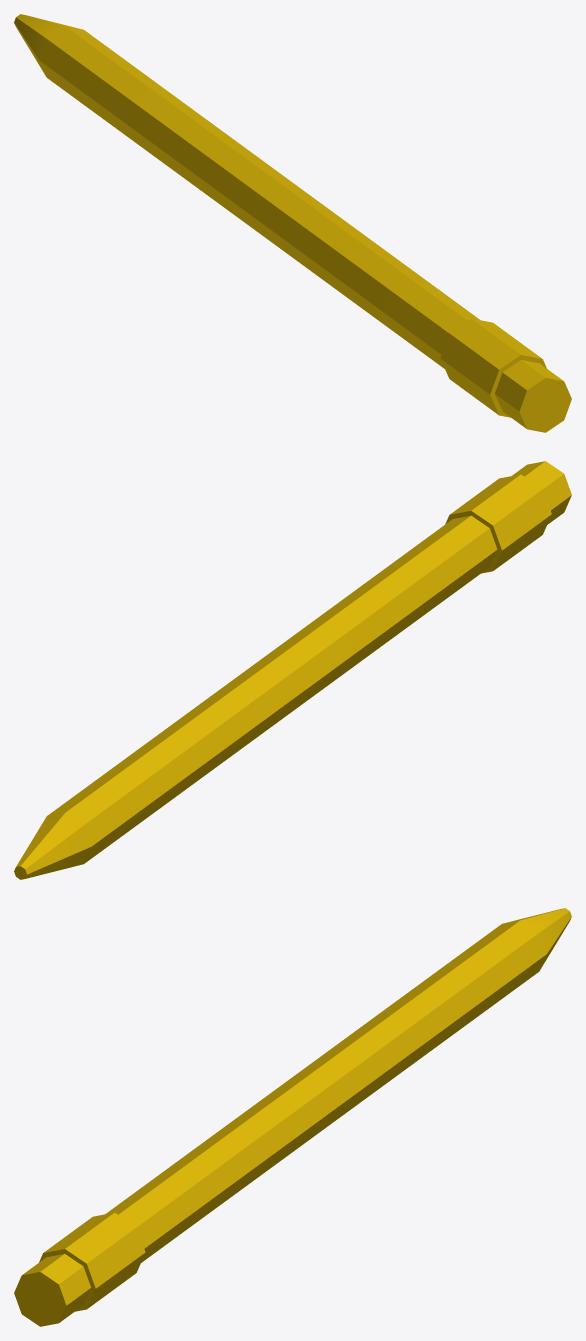
The model's file is pencil_low.fbx.
The picture shows the model from 3 angles, top to bottom: view 1: azimuth 30°, elevation 25°; view 2: azimuth 150°, elevation 25°; view 3: azimuth 330°, elevation 25°; orthographic projection.
Parts seen in each view (by area): view 1: pencil_lod0; view 2: pencil_lod0; view 3: pencil_lod0.
Boxes of the visible parts, <box> form: pencil_lod0: <box>14,14,571,432</box>; pencil_lod0: <box>14,461,571,879</box>; pencil_lod0: <box>14,908,571,1326</box>.
Bounding box in the file's own units: 7.15 × 7.15 × 105.
